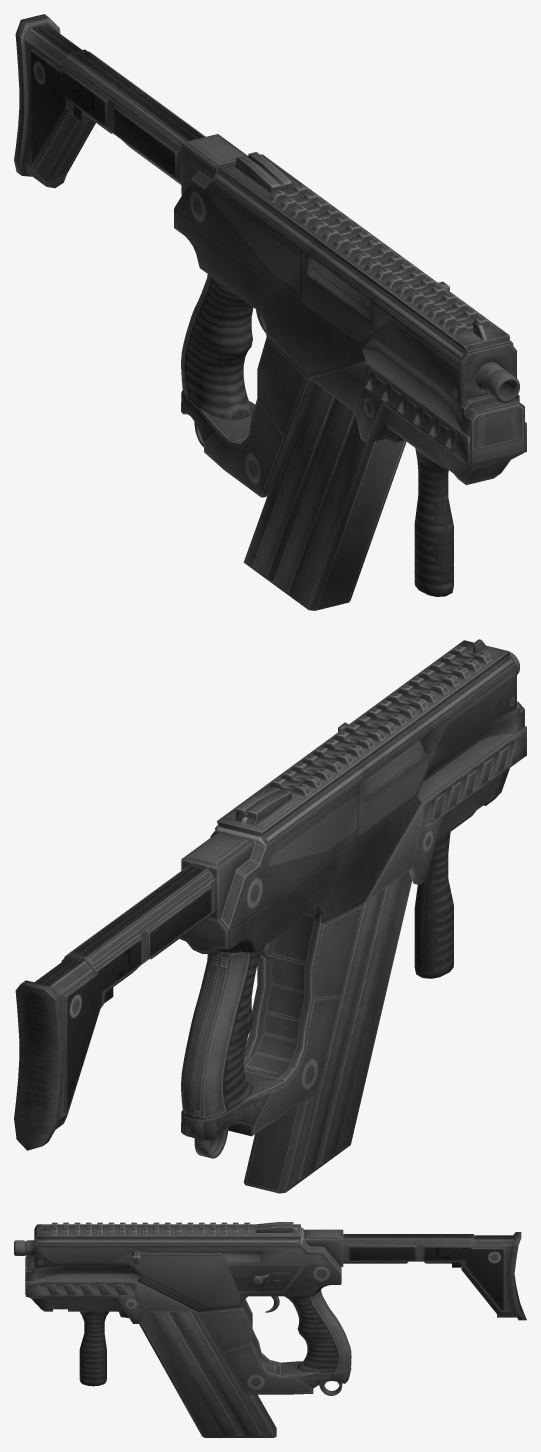
The model's file is Machine_Gun.FBX.
The picture shows the model from 3 angles, top to bottom: view 1: azimuth 30°, elevation 25°; view 2: azimuth 150°, elevation 25°; view 3: azimuth 270°, elevation 25°; orthographic projection. The views are drawn at different scales.
Visible parts, largest first — view 1: smg_low; view 2: smg_low; view 3: smg_low.
Part boxes in pixels (x1,y1,x2,y2): smg_low: [14, 14, 526, 610]; smg_low: [14, 639, 526, 1193]; smg_low: [14, 1222, 526, 1437].
Size of the model in its own units: 0.8416 by 3.75 by 8.37.
1 material, 1 textured.
